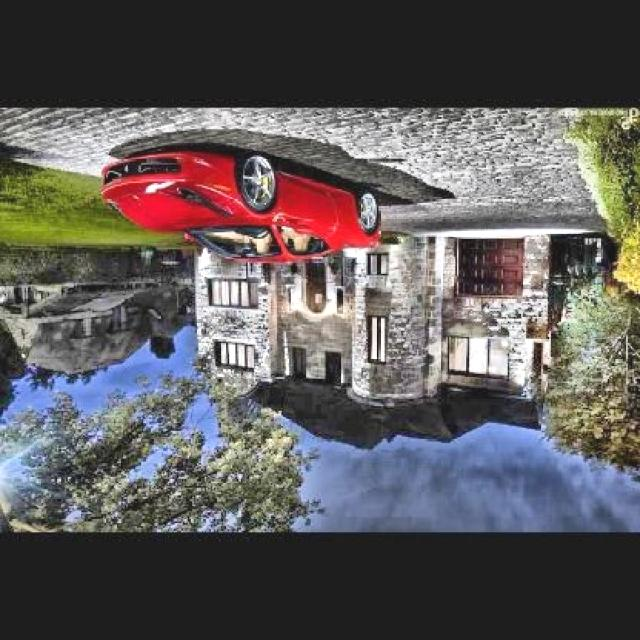red: (91, 132, 392, 295)
